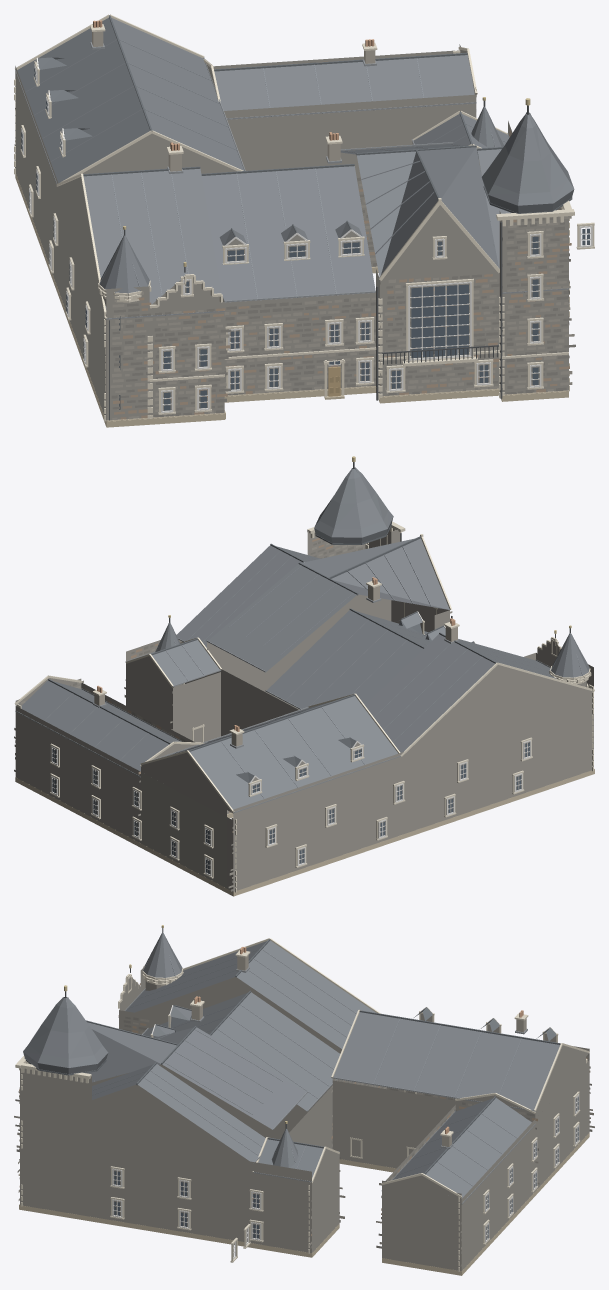
The picture shows the model from 3 angles, top to bottom: view 1: azimuth 30°, elevation 25°; view 2: azimuth 150°, elevation 25°; view 3: azimuth 270°, elevation 25°; orthographic projection. The views are drawn at different scales.
Visible parts, largest first — view 1: slate, rubble, ss_lt, rubble_dk, rubble_lt, frame, ss_dk, rubble_rust, slate_dk, slate_lt, lead, pipe (+1 smaller); view 2: rubble, slate, ss_lt, ss_dk, slate_lt, slate_dk, frame, lead, chim_stone; view 3: rubble, slate, ss_lt, ss_dk, slate_lt, slate_dk, frame, lead, chim_stone, rubble_dk, rubble_lt.
Boxes of the visible parts, box(x1,y1,x2,y2) form: slate: box(17, 17, 574, 309); rubble: box(15, 44, 568, 420); ss_lt: box(14, 14, 594, 421); rubble_dk: box(15, 53, 575, 417); rubble_lt: box(14, 58, 574, 419); frame: box(21, 57, 592, 412); ss_dk: box(15, 174, 568, 427); rubble_rust: box(113, 57, 571, 419); slate_dk: box(38, 15, 572, 236); slate_lt: box(25, 39, 531, 315); lead: box(15, 42, 568, 319); pipe: box(109, 100, 528, 420); rubble: box(15, 528, 593, 891); slate: box(21, 468, 589, 809); ss_lt: box(14, 521, 594, 892); ss_dk: box(15, 769, 594, 896); slate_lt: box(44, 467, 589, 798); slate_dk: box(48, 523, 496, 782); frame: box(51, 611, 531, 876); lead: box(15, 597, 550, 813); chim_stone: box(94, 585, 457, 746); rubble: box(20, 966, 589, 1271); slate: box(23, 932, 559, 1197); ss_lt: box(15, 938, 589, 1271); ss_dk: box(19, 1132, 589, 1275); slate_lt: box(62, 949, 521, 1185); slate_dk: box(24, 939, 560, 1174); frame: box(112, 1005, 579, 1258); lead: box(19, 967, 535, 1204); chim_stone: box(191, 955, 526, 1146); rubble_dk: box(15, 1016, 592, 1266); rubble_lt: box(14, 1018, 594, 1249).
Bounding box in the file's own units: 45.41 × 22.06 × 52.59.
